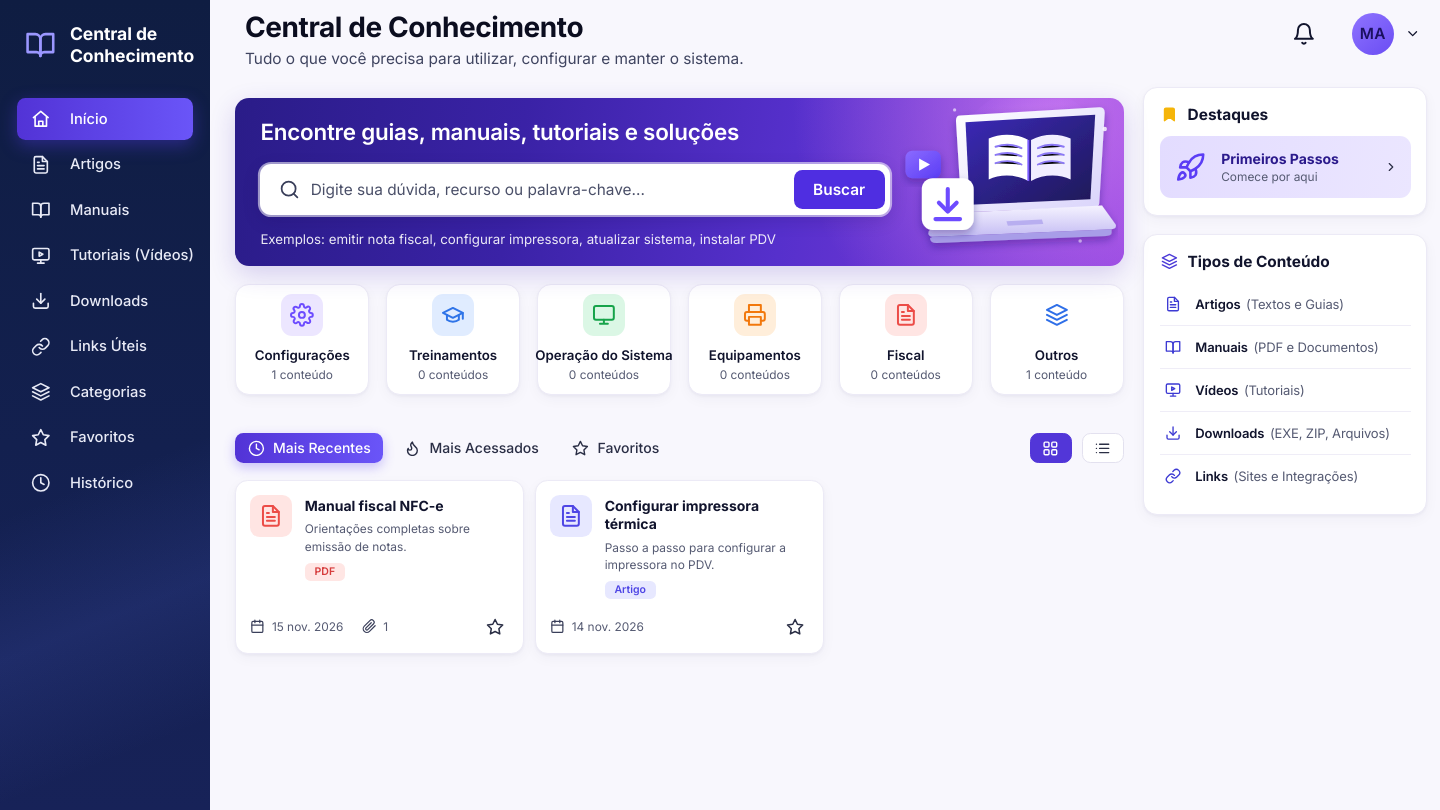
Central de Conhecimento › alterna entre grade e lista sem mudar os registros
Later steps or results of the test are not shown.
Click the button named "Exibir em lista".
click(1103, 448)  # box top-left (1082, 433), bottom-right (1124, 463)
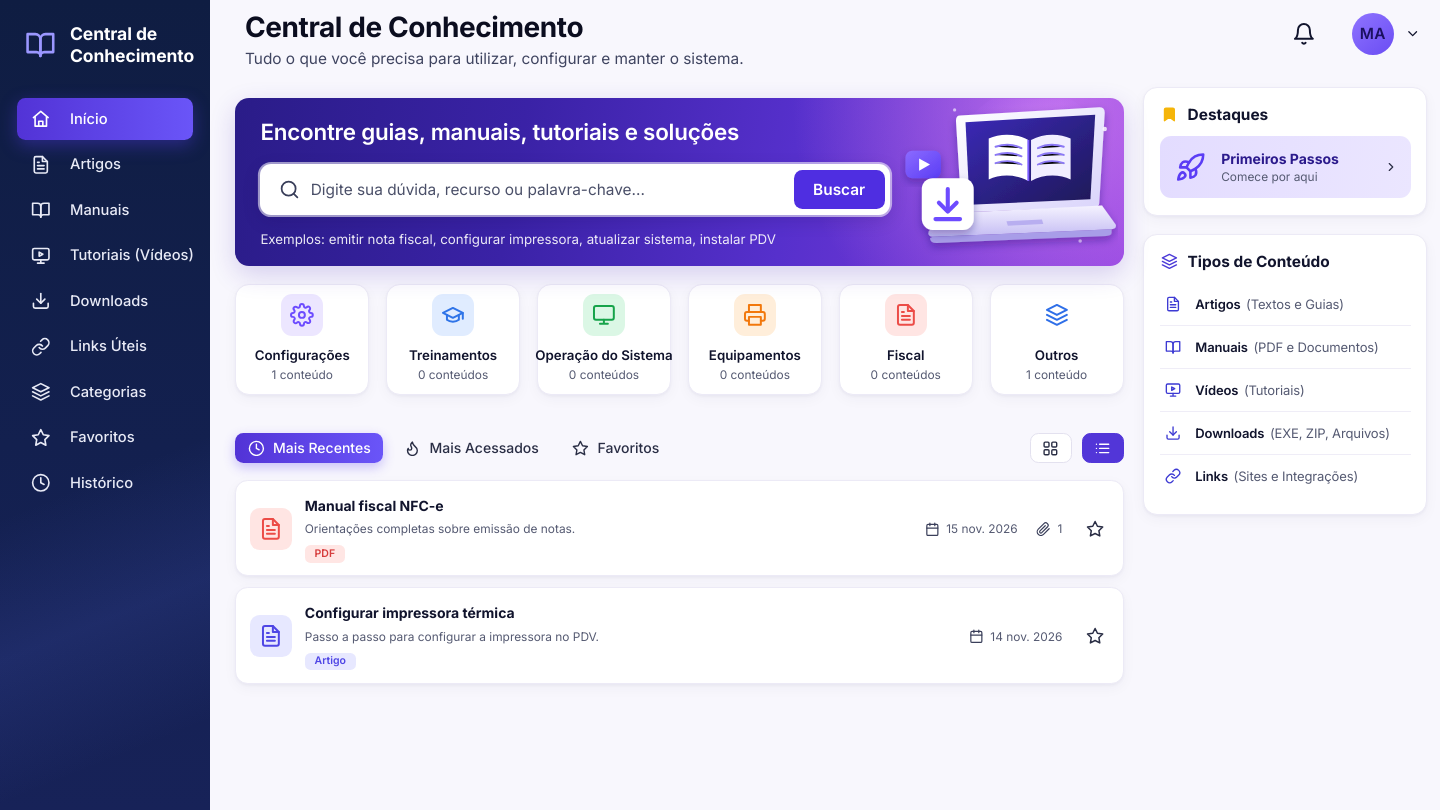
Check: the element with class "kb-grid--list" is shown, box top-left (235, 480), bottom-right (1124, 684)
